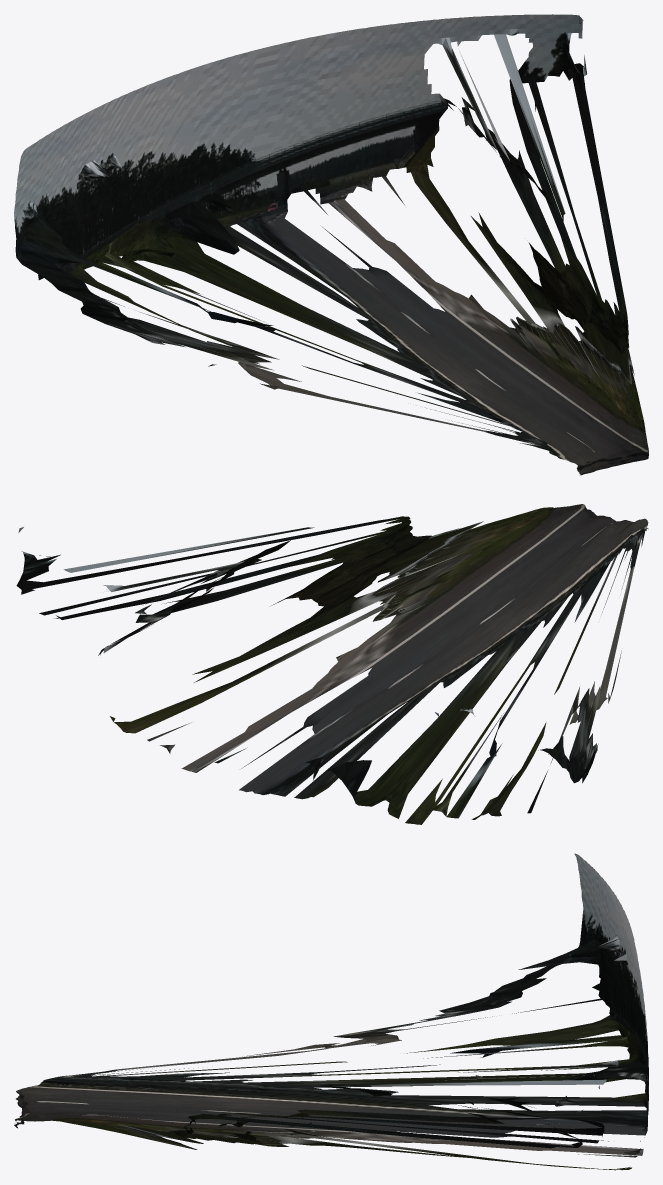
3 views of the same model, one above another, from view 1: azimuth 30°, elevation 25°; view 2: azimuth 150°, elevation 25°; view 3: azimuth 270°, elevation 25° (orthographic). The views are drawn at different scales.
Parts seen in each view (by area): view 1: defaultobject; view 2: defaultobject; view 3: defaultobject.
Part boxes in pixels (x1,y1,x2,y2): defaultobject: (14, 14, 648, 475); defaultobject: (16, 504, 648, 824); defaultobject: (14, 853, 648, 1170).
Bounding box in the file's own units: 40.88 × 12.51 × 44.45.
Materials: 1 (1 with a texture image).
